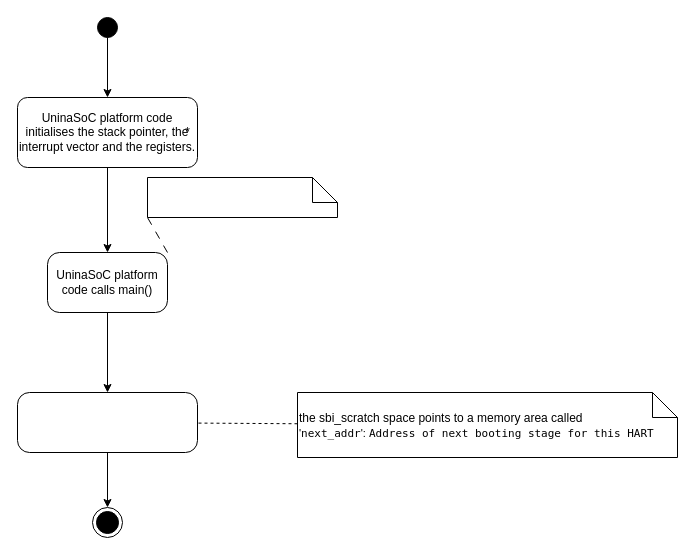
Image size: 695x555. Some labels were removed from this diagram. The box of each missing label's shape, as (x1, y1, x2, y2) in pixels:
here is where the bootrom code will go: (146, 176, 338, 218)
main() (bootrom) performs uart and sbi_scratch initialization and calls sbi_init: (16, 392, 198, 452)
